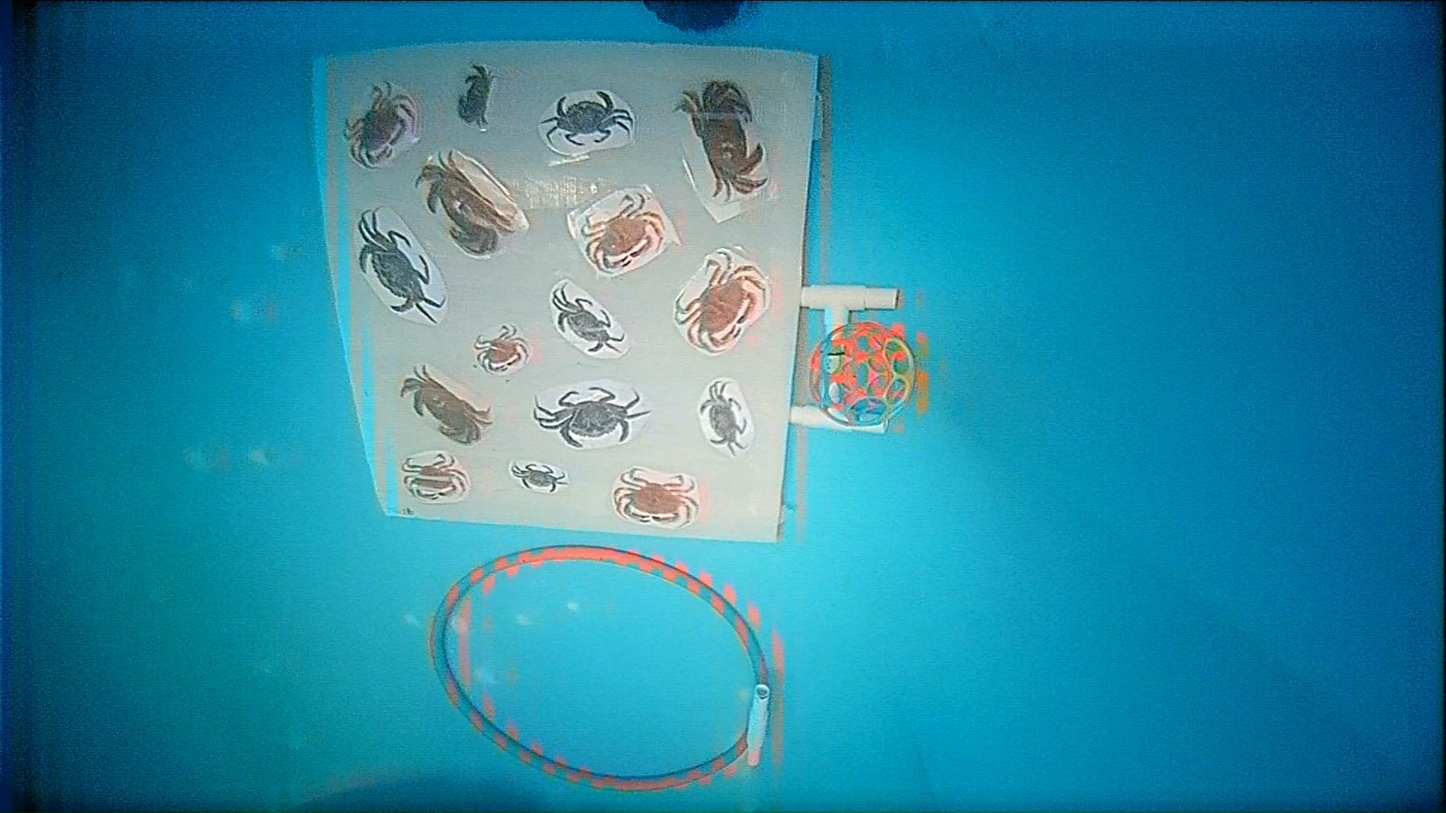GreenCrab: (534, 387, 649, 447), (541, 90, 632, 146), (553, 286, 622, 352), (700, 379, 746, 453)
